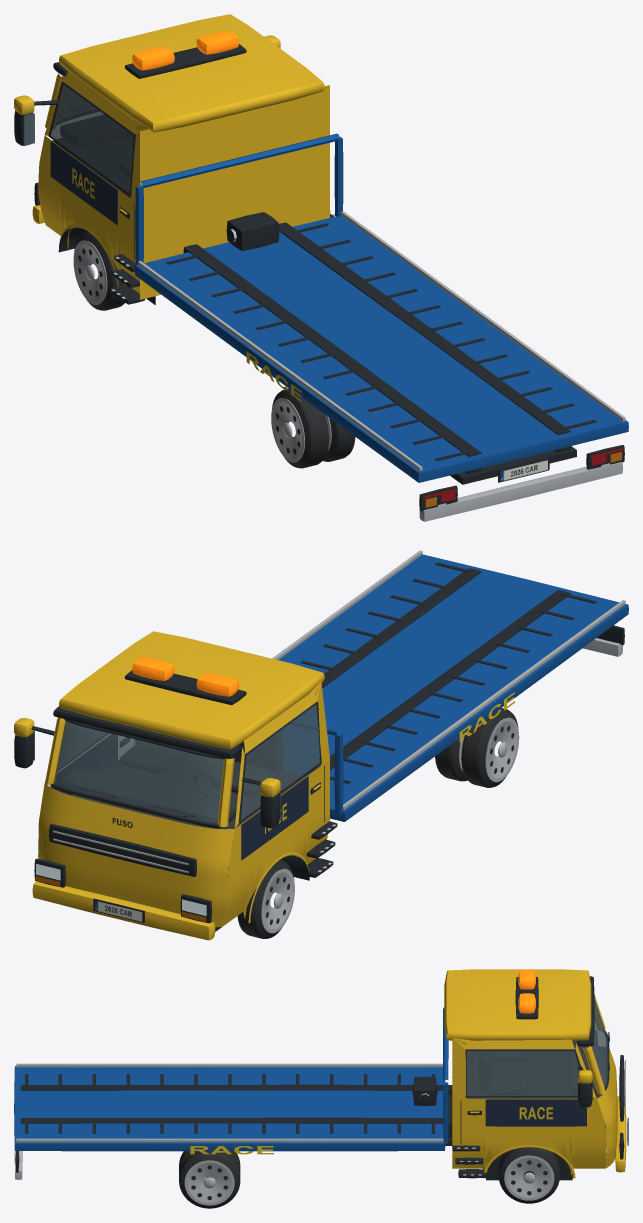
File: Entrega_8b_LOD0.glb
3 renders of one model, top to bottom at view 1: azimuth 30°, elevation 25°; view 2: azimuth 150°, elevation 25°; view 3: azimuth 270°, elevation 25°, orthographic. The views are drawn at different scales.
Visible parts, largest first — view 1: Body (×2), Glass, Wheel_RL, Interior, Wheel_FL; view 2: Body (×2), Glass, Interior, Wheel_RL, Wheel_FL, Headlights, LiveryDecals; view 3: Body (×2), Glass, Interior, Wheel_RR, Wheel_FR, LiveryDecals.
Boxes of the visible parts, <box> form: Body (×2): <box>14,14,628,521</box>; Glass: <box>24,76,133,193</box>; Wheel_RL: <box>271,388,355,468</box>; Interior: <box>55,115,135,197</box>; Wheel_FL: <box>73,231,125,310</box>; Body (×2): <box>14,550,628,940</box>; Glass: <box>33,704,320,823</box>; Interior: <box>60,730,305,829</box>; Wheel_RL: <box>435,708,519,787</box>; Wheel_FL: <box>237,860,294,938</box>; Headlights: <box>36,863,206,915</box>; LiveryDecals: <box>112,692,514,833</box>; Body (×2): <box>14,969,628,1180</box>; Glass: <box>466,999,607,1105</box>; Interior: <box>466,1030,605,1098</box>; Wheel_RR: <box>179,1151,240,1208</box>; Wheel_FR: <box>498,1147,559,1203</box>; LiveryDecals: <box>190,1107,553,1154</box>.
Size of the model in its own units: 2.75 by 2.45 by 7.41.
Materials: 17 (2 with a texture image).
